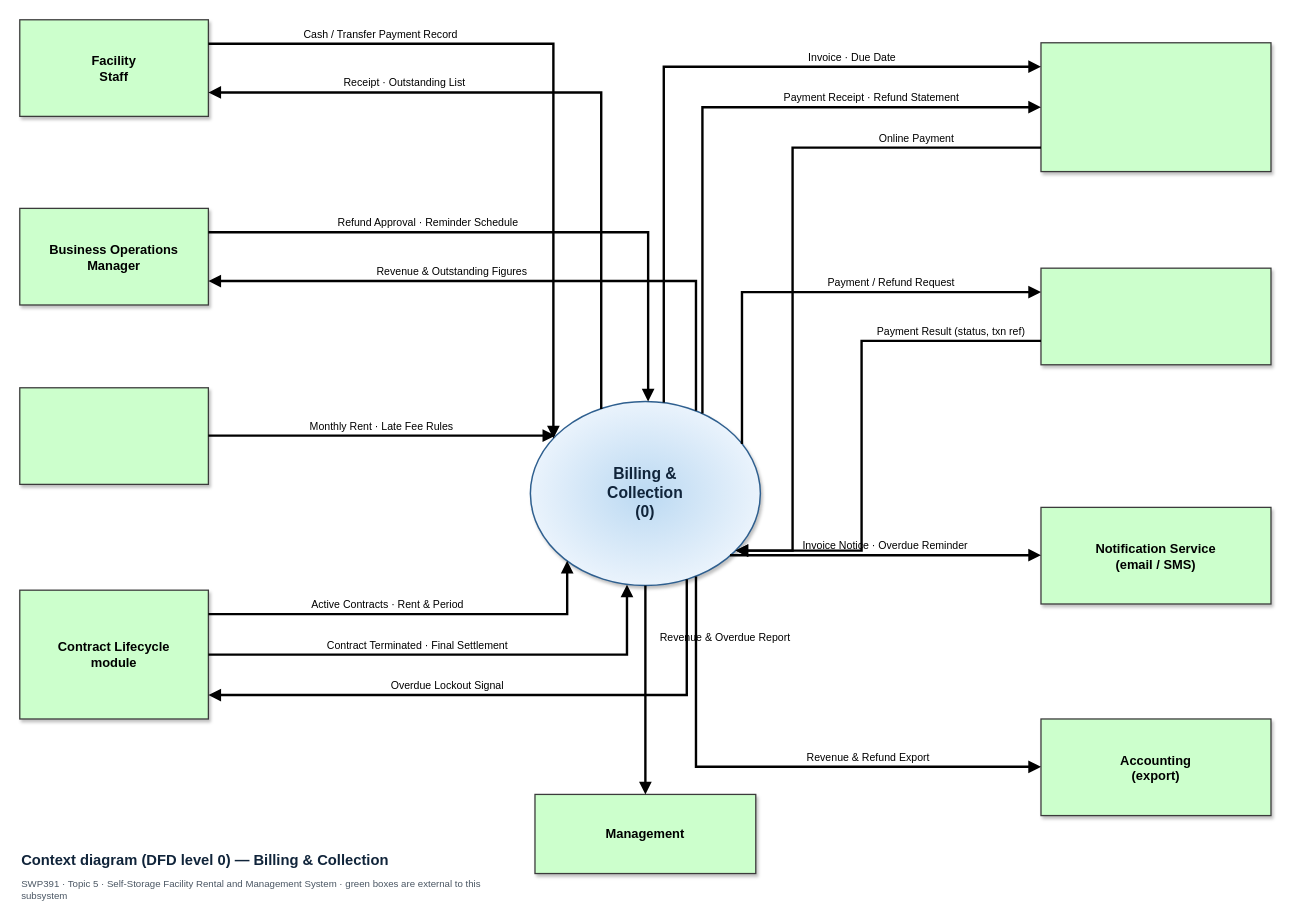
The diagram is 1294 pixels wide and 921 high, and some of its shapes have lost their labels. Each missing label, with the centre of its shape:
"Payment Gateway" belongs at (1156,317).
"Pricing & Fees module" belongs at (114,437).
"STORAGE CUSTOMER" belongs at (1156,108).
